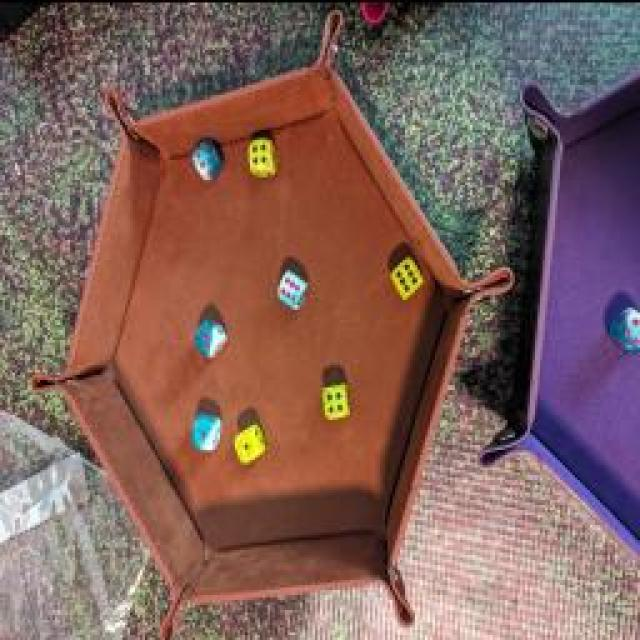dice_1: (232, 420, 268, 465), (188, 408, 224, 450)
dice_3: (192, 315, 228, 360)
dice_4: (605, 298, 640, 352), (192, 136, 222, 186), (318, 376, 352, 419), (248, 134, 278, 178)
dice_6: (388, 254, 422, 304), (274, 269, 308, 309)
